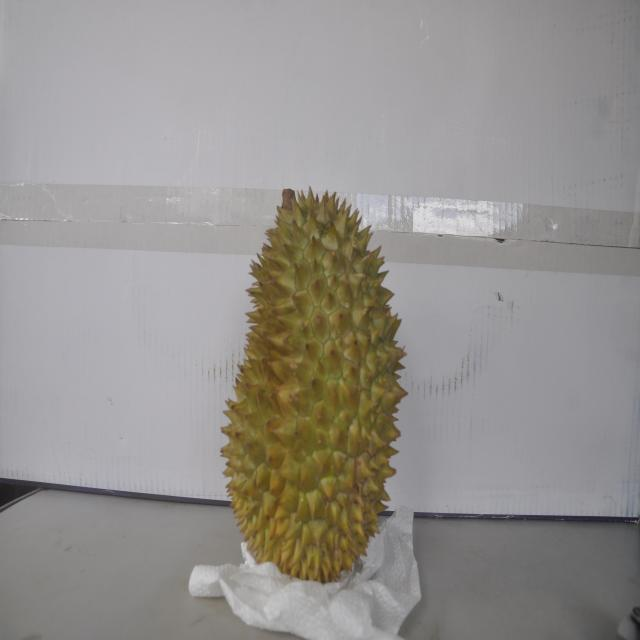mature: (220, 186, 408, 580)
